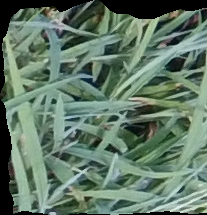grass: (1, 1, 206, 214)
